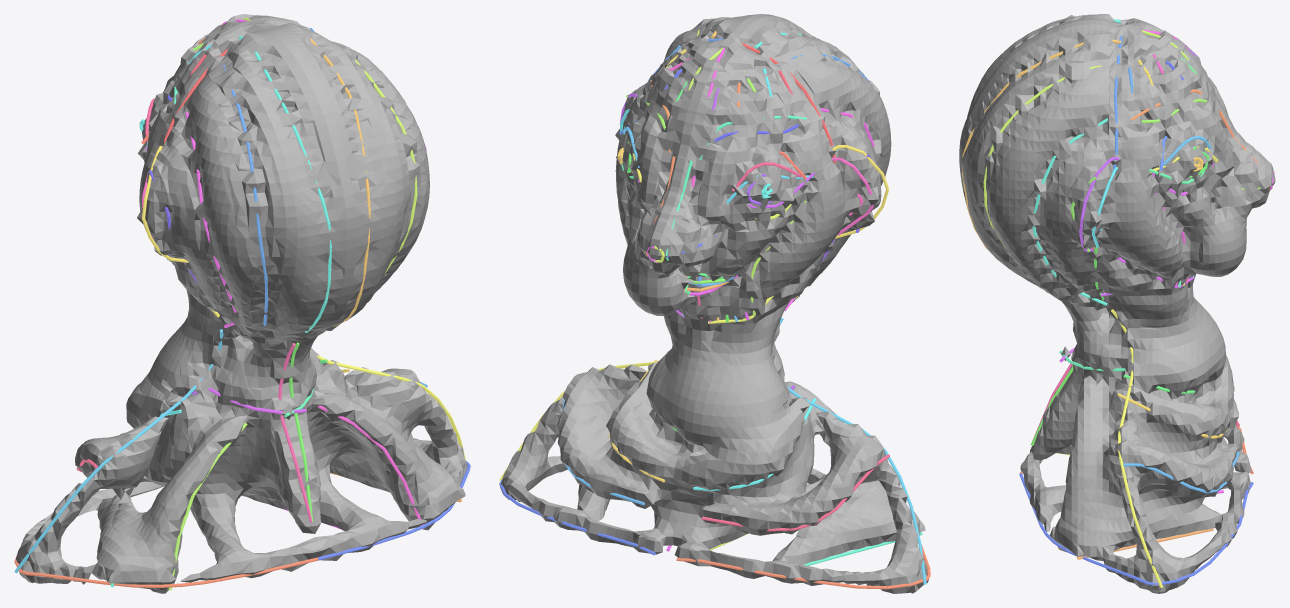
File: author1_bust.gltf
3 views of the same model, side by side, from view 1: azimuth 30°, elevation 25°; view 2: azimuth 150°, elevation 25°; view 3: azimuth 270°, elevation 25° (orthographic). The views are drawn at different scales.
Size of the model in its own units: 0.6246 by 0.6942 by 0.4168.
